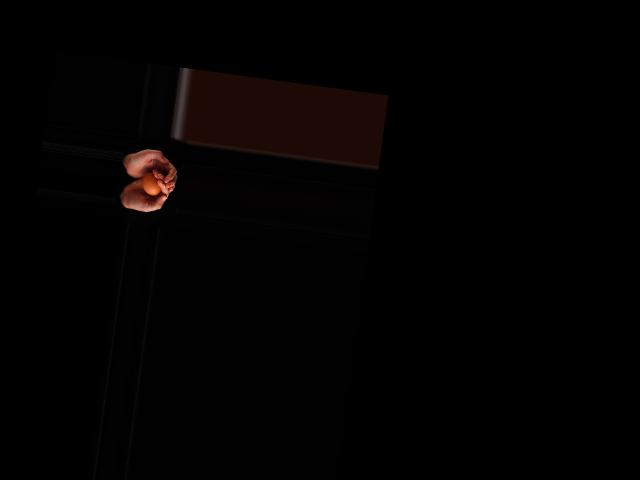egg: (140, 170, 162, 196)
